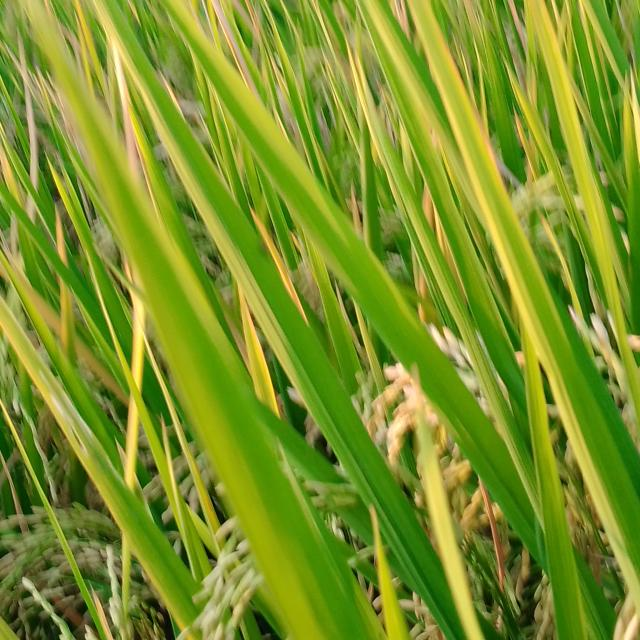Brown spot: (475, 464, 522, 617)
brown plant hopper: (33, 359, 106, 458)
